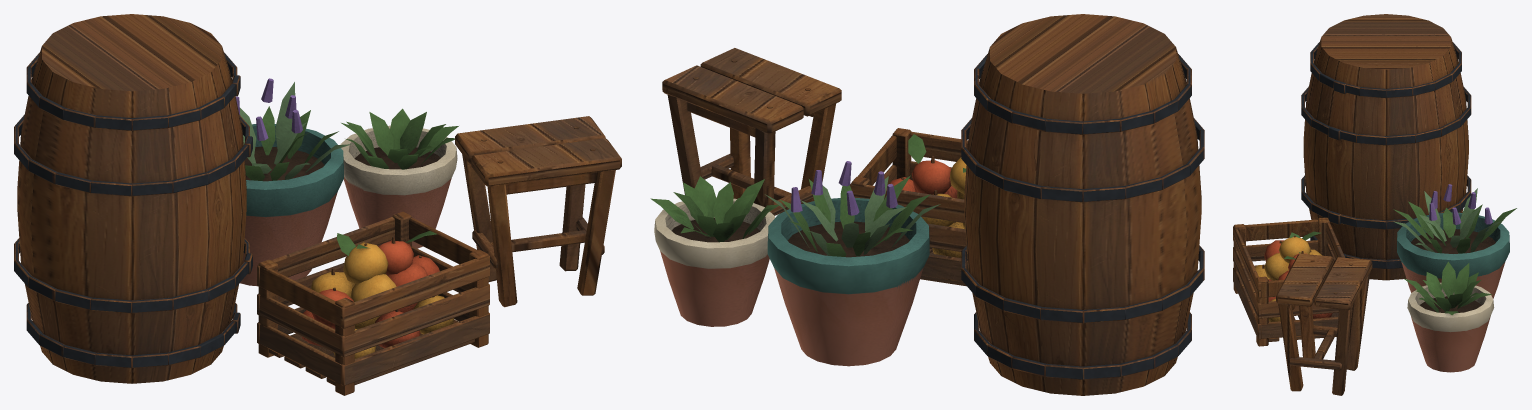
File: prop_courtyard_clutter.glb
The picture shows the model from 3 angles, left to right: view 1: azimuth 30°, elevation 25°; view 2: azimuth 150°, elevation 25°; view 3: azimuth 270°, elevation 25°; orthographic projection. The views are drawn at different scales.
Parts seen in each view (by area): view 1: CourtyardClutter; view 2: CourtyardClutter; view 3: CourtyardClutter.
Part boxes in pixels (x1,y1,x2,y2): CourtyardClutter: (14, 14, 621, 395); CourtyardClutter: (650, 14, 1204, 395); CourtyardClutter: (1233, 14, 1516, 395).
Bounding box in the file's own units: 1.73 × 0.9 × 1.1.
Materials: 1 (1 with a texture image).
